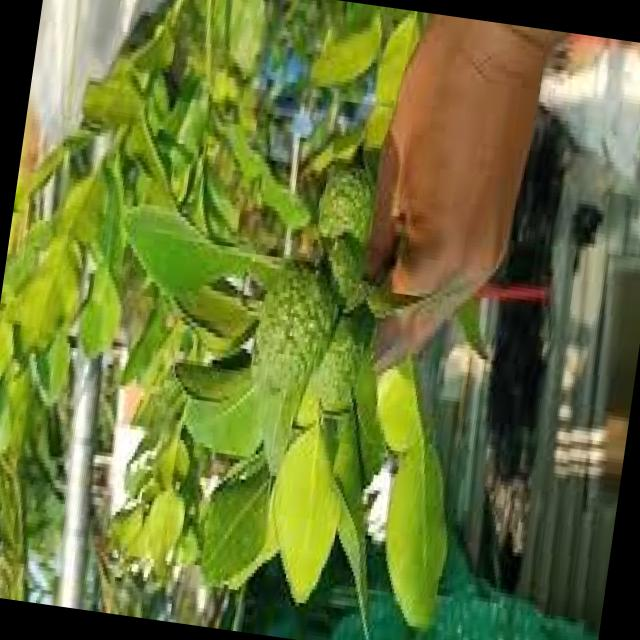Chuc: (250, 257, 344, 388), (300, 306, 366, 400), (312, 159, 380, 250), (318, 235, 371, 306)
